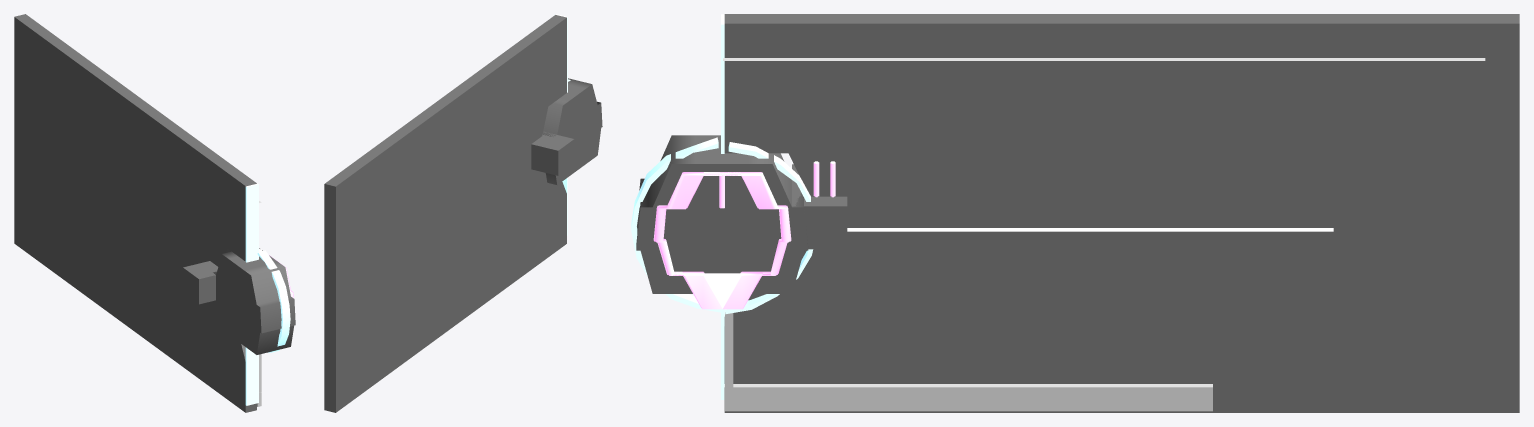
The model's file is rightDoor2Compress.gltf.
The picture shows the model from 3 angles, left to right: view 1: azimuth 30°, elevation 25°; view 2: azimuth 150°, elevation 25°; view 3: azimuth 270°, elevation 25°; orthographic projection. The views are drawn at different scales.
Parts seen in each view (by area): view 1: pasted__pCube63; view 2: pasted__pCube63; view 3: pasted__pCube63.
Boxes of the visible parts, bbox=[...] form: pasted__pCube63: bbox=[14, 14, 295, 412]; pasted__pCube63: bbox=[324, 14, 602, 412]; pasted__pCube63: bbox=[631, 14, 1519, 412].
Size of the model in its own units: 0.0328 by 0.1264 by 0.2615.
